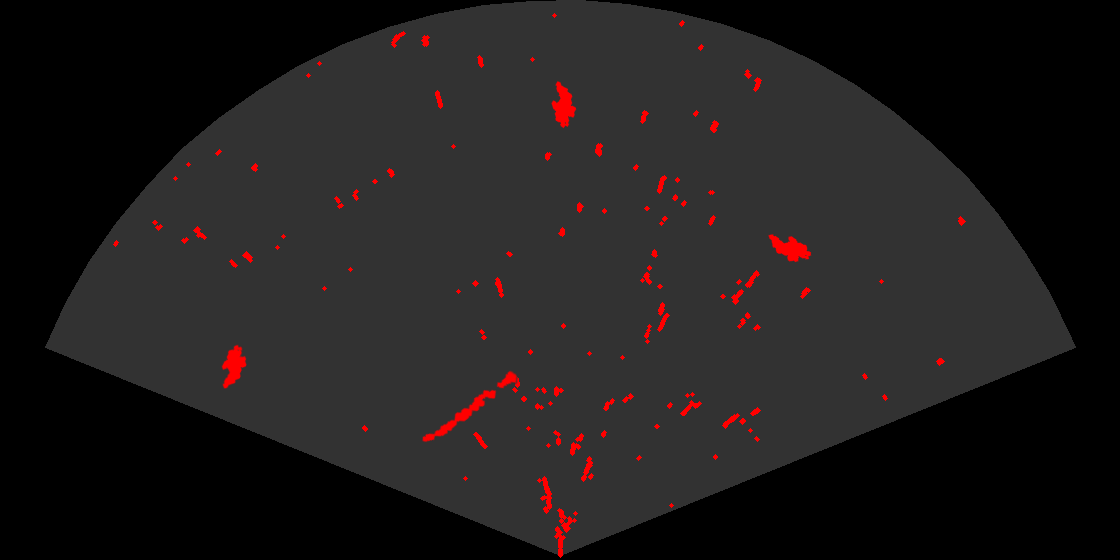AUV: (767, 233, 813, 264), (550, 80, 578, 130), (220, 343, 248, 390)
chain: (421, 369, 519, 444)
